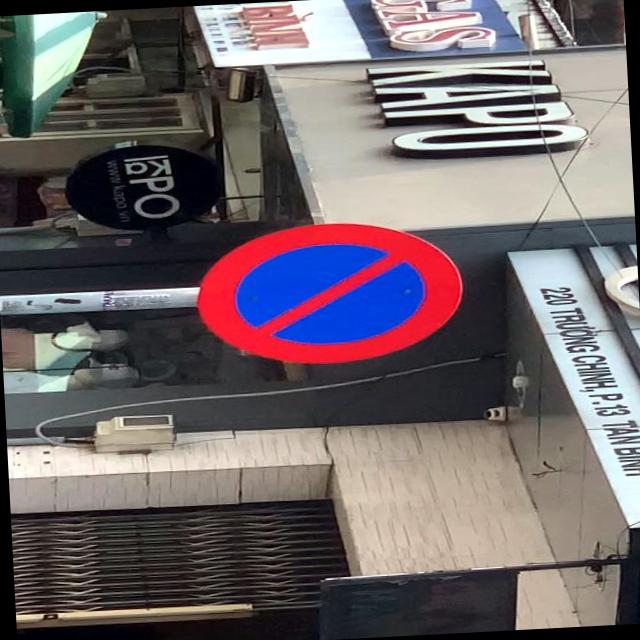P-131a: (193, 216, 464, 368)
